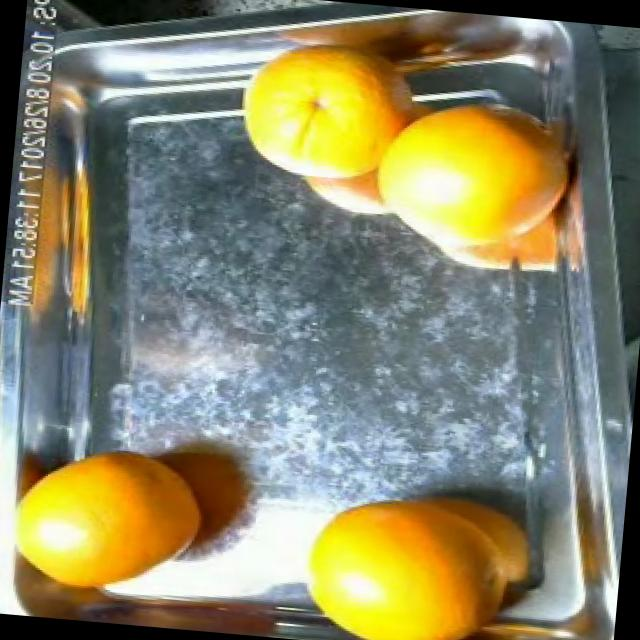Fruit: (0, 421, 225, 607), (214, 21, 424, 209)
